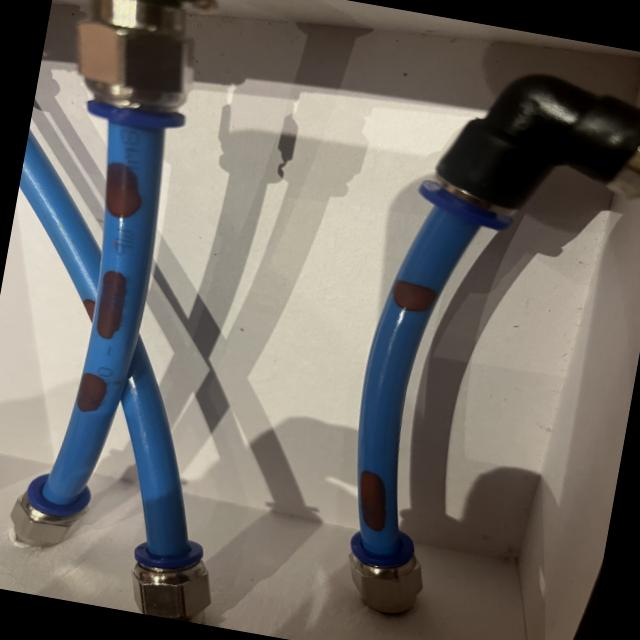hose_damage: (92, 267, 134, 346), (98, 159, 146, 225), (353, 463, 395, 534), (68, 368, 110, 416), (386, 279, 441, 315), (80, 296, 98, 326)
